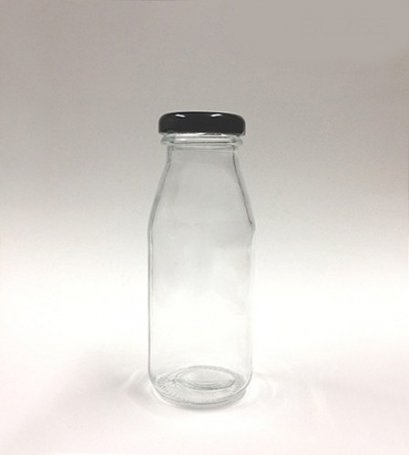glass_bottle: (133, 104, 280, 420)
